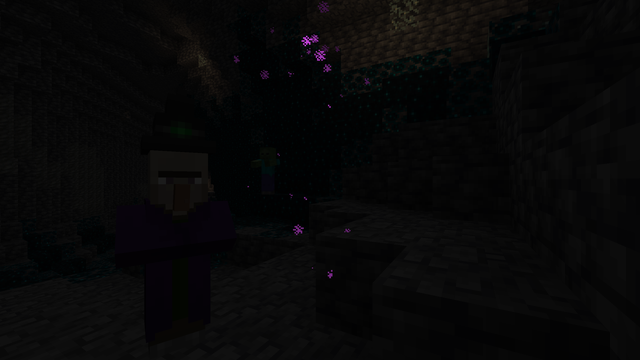sorcieres: (127, 140, 222, 357)
zombies: (257, 148, 276, 194)
